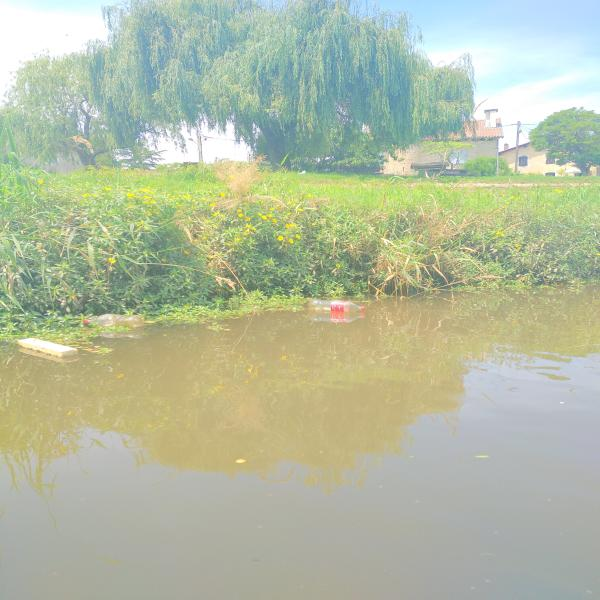bottles: (305, 299, 367, 318)
fragments: (74, 314, 148, 333)
others: (16, 335, 75, 359)
